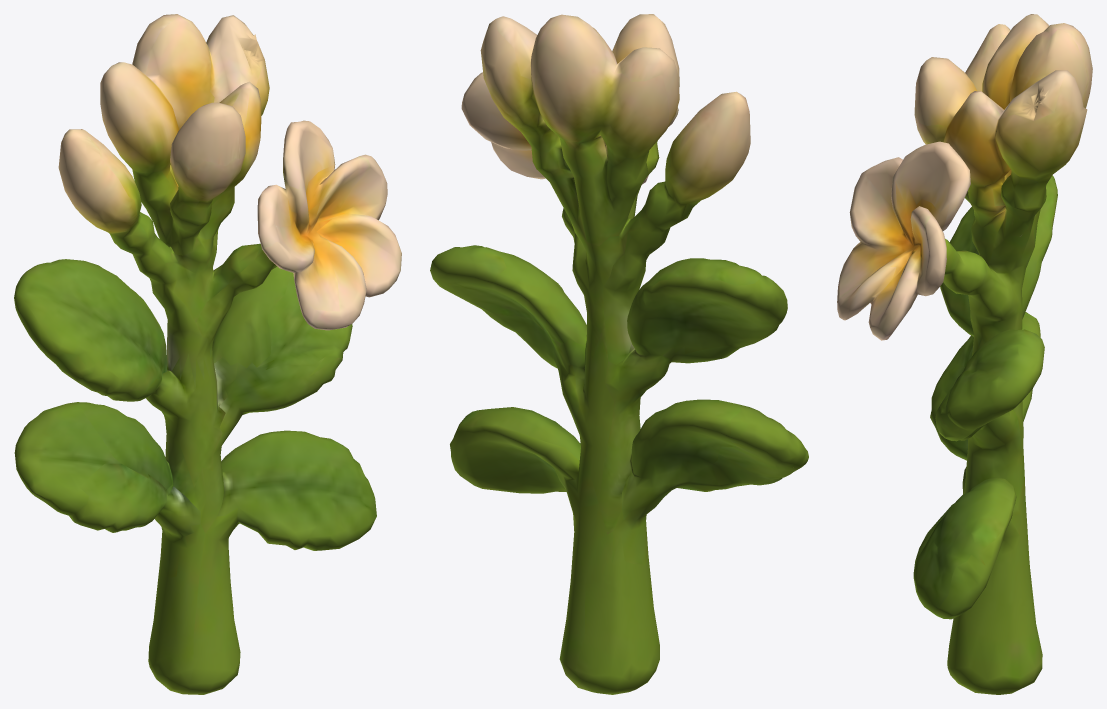
Rendered from plumeria_s4.glb.
3 views of the same model, side by side, from view 1: azimuth 30°, elevation 25°; view 2: azimuth 150°, elevation 25°; view 3: azimuth 270°, elevation 25° (orthographic). The views are drawn at different scales.
Bounding box in the file's own units: 0.5556 × 1 × 0.3487.
1 material, 1 textured.
